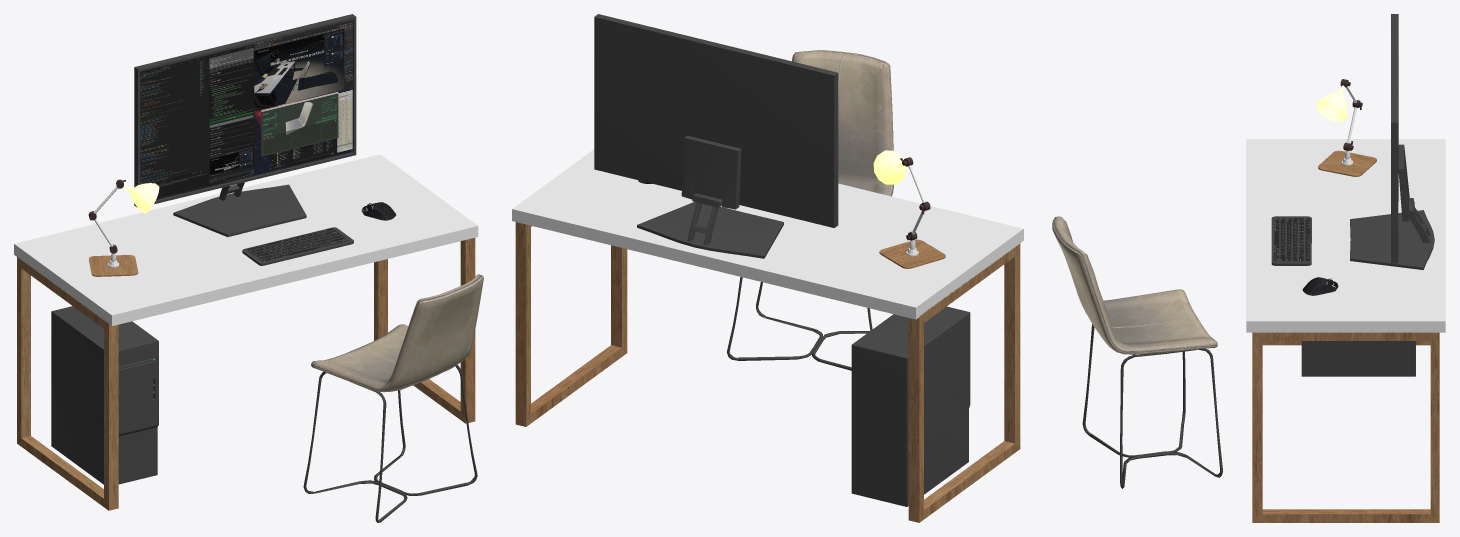
The model's file is deskNpc.glb.
3 renders of one model, left to right at view 1: azimuth 30°, elevation 25°; view 2: azimuth 150°, elevation 25°; view 3: azimuth 270°, elevation 25°, orthographic. The views are drawn at different scales.
Parts seen in each view (by area): view 1: desk, screen, pc, chair, keyb, lamp; view 2: desk, screen, pc, chair, lamp; view 3: desk, chair, screen, pc, lamp, keyb, mouse.
Boxes of the visible parts, left/top/right/bottom form: desk: left=14, top=154, right=478, bottom=510; screen: left=134, top=14, right=356, bottom=237; pc: left=51, top=306, right=158, bottom=484; chair: left=303, top=274, right=483, bottom=522; keyb: left=242, top=227, right=353, bottom=265; lamp: left=88, top=179, right=159, bottom=276; desk: left=512, top=149, right=1023, bottom=522; screen: left=594, top=14, right=838, bottom=258; pc: left=851, top=306, right=970, bottom=506; chair: left=727, top=50, right=893, bottom=370; lamp: left=873, top=150, right=945, bottom=268; desk: left=1246, top=139, right=1445, bottom=522; chair: left=1052, top=216, right=1222, bottom=488; screen: left=1350, top=14, right=1434, bottom=269; pc: left=1301, top=341, right=1415, bottom=376; lamp: left=1316, top=79, right=1376, bottom=176; keyb: left=1271, top=216, right=1311, bottom=265; mouse: left=1302, top=277, right=1338, bottom=295.
Size of what is drawn, in the model's own units: 156 by 149 by 142.
17 materials, 6 textured.
